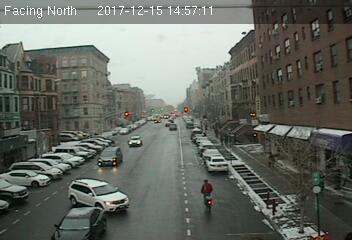bicycle: (200, 178, 214, 215)
car: (68, 177, 129, 212), (51, 209, 107, 240), (98, 148, 124, 167), (206, 156, 229, 173), (128, 136, 142, 146)
